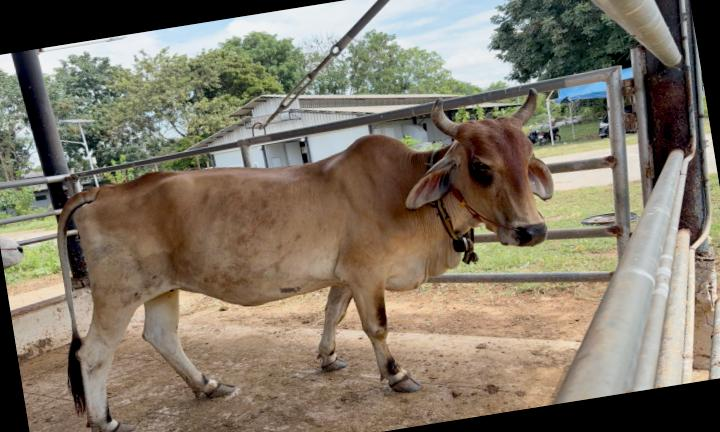Brahman: (60, 89, 554, 432)
